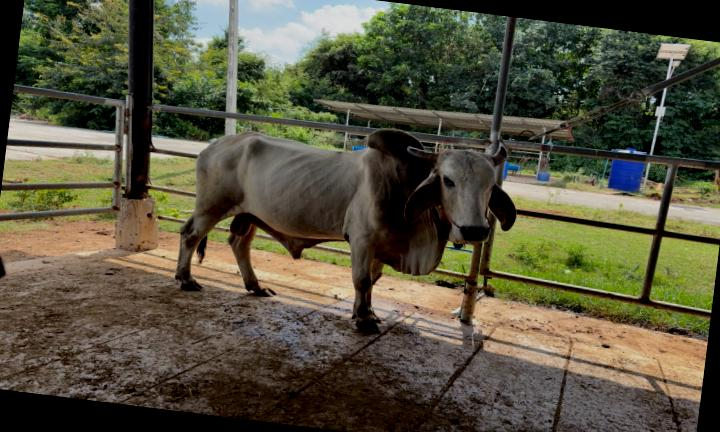Brahman: (175, 129, 516, 333)
